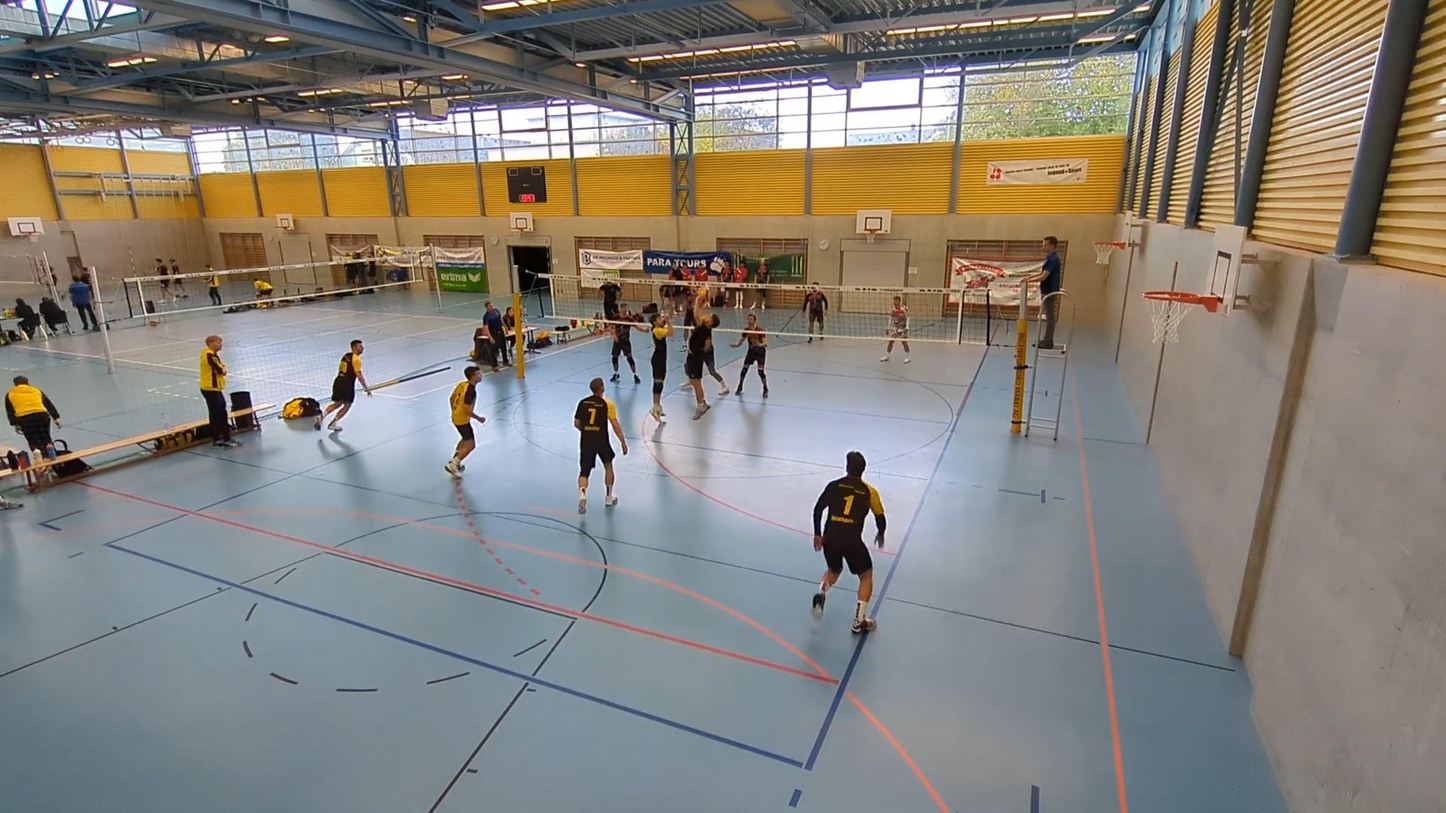alzata: (683, 286, 721, 420)
